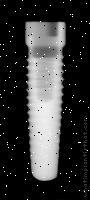Nobel Biocare: (20, 21, 66, 182)
